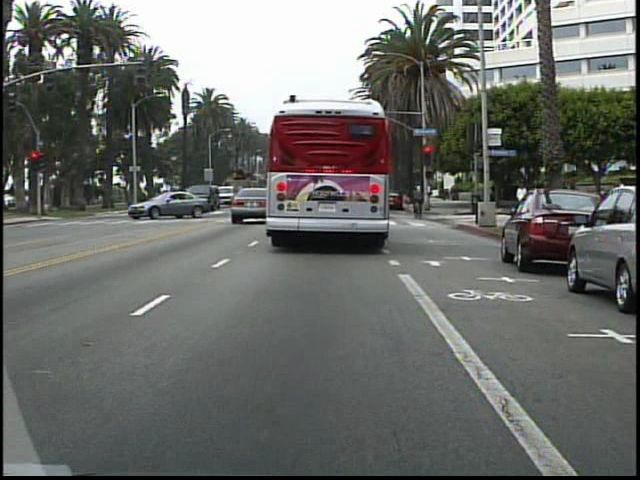person: (513, 181, 532, 219), (408, 182, 428, 217)
